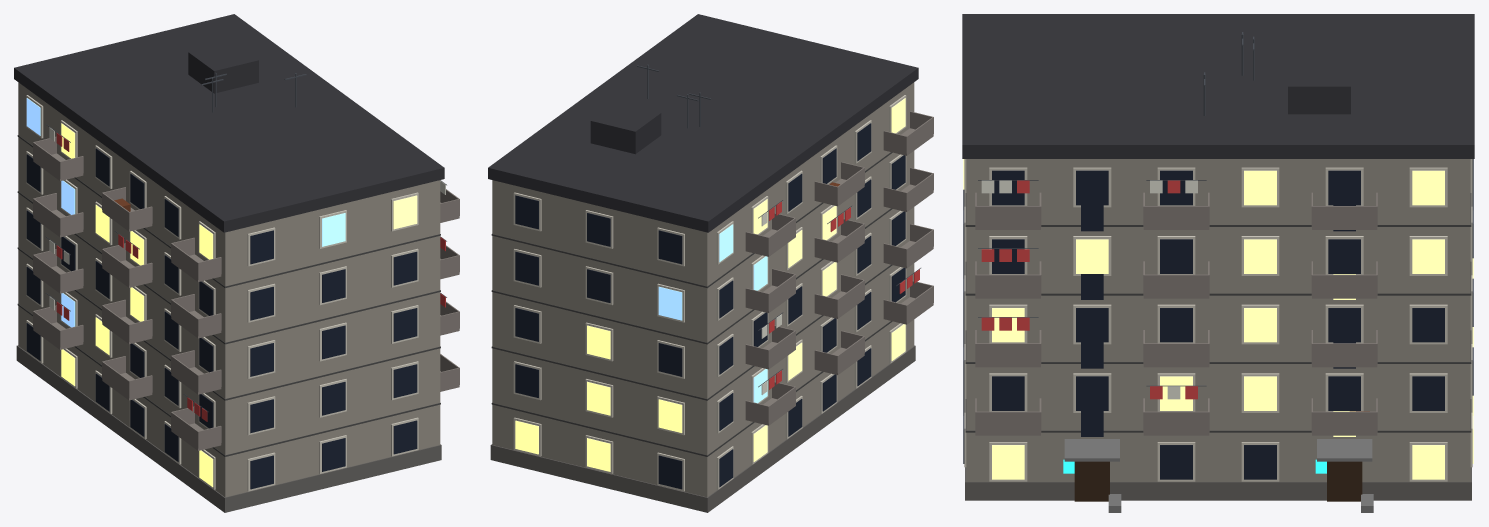
File: panel_5.glb
3 views of the same model, side by side, from view 1: azimuth 30°, elevation 25°; view 2: azimuth 150°, elevation 25°; view 3: azimuth 270°, elevation 25° (orthographic). The views are drawn at different scales.
Visible parts, largest first — view 1: panel_5; view 2: panel_5; view 3: panel_5.
Part boxes in pixels (<box>): panel_5: <box>14,14,459,512</box>; panel_5: <box>488,14,933,512</box>; panel_5: <box>962,14,1474,512</box>.
Size of the model in its own units: 15.11 by 17.4 by 20.3.
